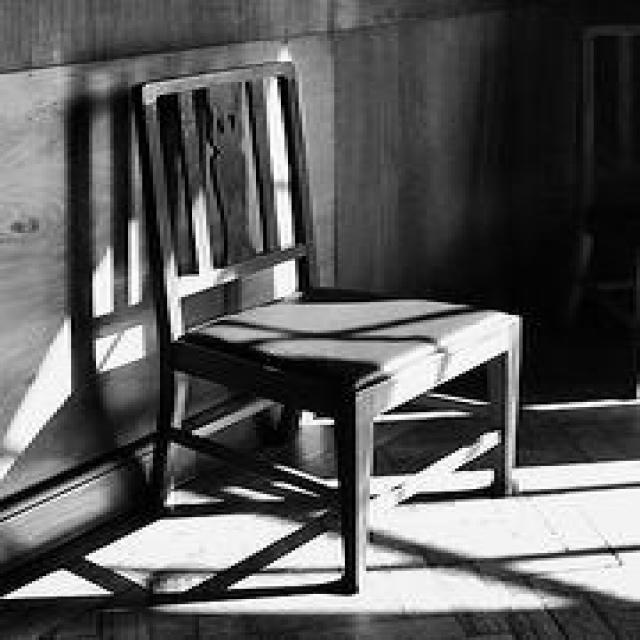chair: (124, 56, 524, 594)
